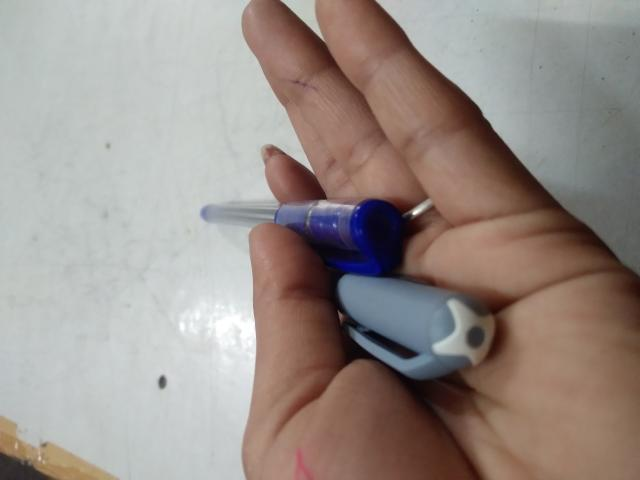PEN: (92, 317, 231, 480), (208, 182, 295, 431)
